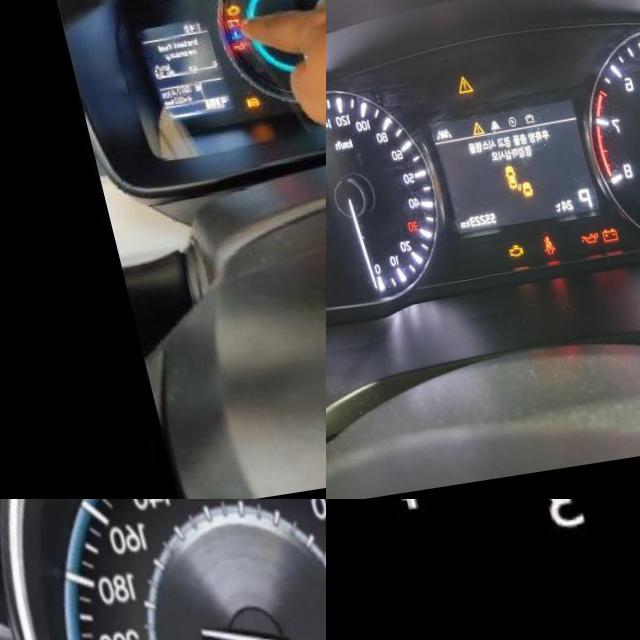Central Warning lamp: (443, 81, 463, 103)
Engine cooling system: (222, 41, 233, 51)
